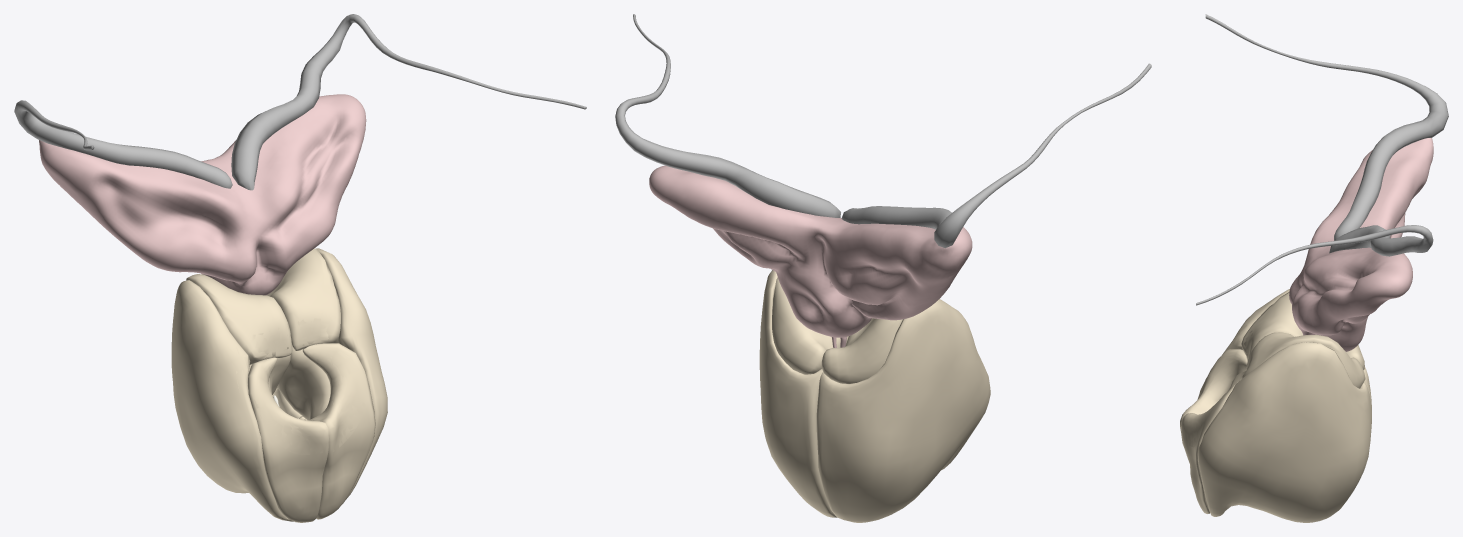
The model's file is prostata.glb.
3 renders of one model, left to right at view 1: azimuth 30°, elevation 25°; view 2: azimuth 150°, elevation 25°; view 3: azimuth 270°, elevation 25°, orthographic. The views are drawn at different scales.
Parts seen in each view (by area): view 1: VH_M_seminal_vesicle, VH_M_peripheral_zone_of_prostate_R, VH_M_anterior_fibromuscular_stroma_R, VH_M_anterior_fibromuscular_stroma_L, VH_M_vas_deferens_R, VH_M_vas_deferens_L, VH_M_central_zone_of_prostate_L, VH_M_peripheral_zone_of_prostate_L, VH_M_central_zone_of_prostate_R, VH_M_base_of_prostate, VH_M_transition_zone__of_prostate_L; view 2: VH_M_peripheral_zone_of_prostate_R, VH_M_seminal_vesicle, VH_M_peripheral_zone_of_prostate_L, VH_M_vas_deferens_R, VH_M_vas_deferens_L, VH_M_central_zone_of_prostate_R, VH_M_central_zone_of_prostate_L; view 3: VH_M_peripheral_zone_of_prostate_L, VH_M_seminal_vesicle, VH_M_vas_deferens_L, VH_M_vas_deferens_R, VH_M_central_zone_of_prostate_L, VH_M_central_zone_of_prostate_R, VH_M_anterior_fibromuscular_stroma_L, VH_M_anterior_fibromuscular_stroma_R, VH_M_base_of_prostate, VH_M_peripheral_zone_of_prostate_R.
Boxes of the visible parts, <box> form: VH_M_seminal_vesicle: <box>39,94,366,295</box>; VH_M_peripheral_zone_of_prostate_R: <box>171,280,293,521</box>; VH_M_anterior_fibromuscular_stroma_R: <box>248,357,329,522</box>; VH_M_anterior_fibromuscular_stroma_L: <box>302,343,375,519</box>; VH_M_vas_deferens_R: <box>231,14,586,190</box>; VH_M_vas_deferens_L: <box>14,100,232,188</box>; VH_M_central_zone_of_prostate_L: <box>267,248,340,387</box>; VH_M_peripheral_zone_of_prostate_L: <box>272,248,387,499</box>; VH_M_central_zone_of_prostate_R: <box>186,274,292,364</box>; VH_M_base_of_prostate: <box>236,318,366,454</box>; VH_M_transition_zone__of_prostate_L: <box>277,346,330,420</box>; VH_M_peripheral_zone_of_prostate_R: <box>816,299,990,522</box>; VH_M_seminal_vesicle: <box>649,165,972,337</box>; VH_M_peripheral_zone_of_prostate_L: <box>759,270,837,517</box>; VH_M_vas_deferens_R: <box>615,14,840,217</box>; VH_M_vas_deferens_L: <box>841,63,1151,248</box>; VH_M_central_zone_of_prostate_R: <box>821,318,902,383</box>; VH_M_central_zone_of_prostate_L: <box>772,277,848,374</box>; VH_M_peripheral_zone_of_prostate_L: <box>1198,342,1371,522</box>; VH_M_seminal_vesicle: <box>1289,138,1433,351</box>; VH_M_vas_deferens_L: <box>1205,14,1448,240</box>; VH_M_vas_deferens_R: <box>1196,225,1433,305</box>; VH_M_central_zone_of_prostate_L: <box>1241,332,1365,388</box>; VH_M_central_zone_of_prostate_R: <box>1241,292,1364,369</box>; VH_M_anterior_fibromuscular_stroma_L: <box>1181,379,1240,513</box>; VH_M_anterior_fibromuscular_stroma_R: <box>1180,349,1247,443</box>; VH_M_base_of_prostate: <box>1182,325,1254,447</box>; VH_M_peripheral_zone_of_prostate_R: <box>1200,289,1371,409</box>.
Size of the model in its own units: 0.083 by 0.0706 by 0.0428.
